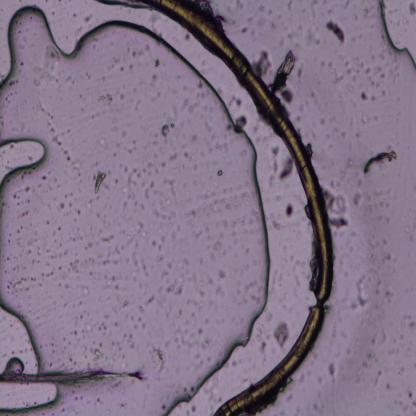Air bubble: (0, 2, 75, 95), (0, 301, 45, 374), (375, 0, 416, 73), (0, 136, 48, 186), (0, 383, 63, 416), (8, 358, 26, 376)
Background material: (362, 149, 402, 177), (274, 49, 294, 90), (321, 187, 349, 214), (326, 21, 346, 45), (255, 326, 271, 356), (41, 44, 58, 72), (353, 271, 367, 305), (253, 48, 270, 75), (149, 344, 166, 370), (275, 323, 292, 349), (93, 165, 108, 193), (122, 172, 136, 200), (192, 78, 210, 98), (3, 277, 27, 292), (25, 245, 43, 265), (198, 198, 221, 213), (162, 177, 177, 199), (278, 158, 293, 180), (58, 192, 76, 209), (66, 256, 82, 275), (267, 158, 277, 188), (331, 216, 352, 230), (208, 142, 231, 154), (106, 53, 122, 70), (49, 126, 63, 145), (205, 391, 224, 404), (92, 348, 107, 364), (331, 68, 344, 86), (162, 119, 175, 137), (197, 336, 212, 351), (235, 117, 250, 132), (178, 334, 193, 349), (269, 267, 277, 295), (226, 94, 242, 108), (204, 188, 224, 199), (327, 362, 337, 384), (270, 212, 282, 230), (351, 187, 363, 205), (172, 282, 186, 297), (145, 181, 156, 199), (70, 160, 81, 178), (246, 279, 260, 293), (289, 25, 303, 39), (106, 273, 120, 287), (138, 219, 148, 238), (122, 295, 135, 309), (344, 56, 354, 74), (252, 204, 261, 223), (282, 90, 296, 102), (127, 140, 139, 154), (113, 240, 124, 255), (98, 93, 113, 104), (137, 260, 146, 278), (92, 391, 104, 404), (328, 178, 340, 191), (271, 142, 280, 158), (283, 204, 295, 216), (368, 236, 380, 248), (381, 250, 391, 264), (375, 371, 384, 386), (407, 0, 416, 15), (192, 228, 203, 240), (145, 295, 158, 305), (296, 371, 306, 384), (209, 125, 217, 141), (130, 250, 138, 266), (384, 289, 392, 304), (82, 13, 94, 23), (359, 112, 369, 124), (96, 324, 106, 336), (127, 334, 136, 347), (349, 296, 358, 309), (100, 235, 114, 243), (132, 202, 144, 211), (312, 0, 318, 18), (311, 401, 319, 414), (364, 4, 372, 17), (165, 284, 175, 294), (328, 5, 338, 15), (81, 284, 90, 295), (63, 149, 71, 161), (214, 238, 221, 251), (285, 394, 295, 403), (114, 378, 123, 388), (84, 256, 95, 264), (144, 165, 152, 176), (361, 90, 368, 102), (382, 328, 388, 342), (42, 271, 54, 278), (251, 295, 261, 303), (5, 92, 13, 102), (229, 219, 237, 229), (163, 198, 171, 208), (150, 238, 158, 248), (406, 389, 414, 399), (168, 152, 178, 160), (395, 398, 405, 406), (134, 101, 141, 112), (193, 350, 201, 359), (224, 202, 233, 210), (216, 169, 225, 177), (329, 156, 335, 168), (355, 367, 363, 376), (188, 106, 197, 114), (117, 92, 126, 100), (108, 338, 116, 347), (28, 275, 37, 283), (157, 252, 162, 266), (9, 79, 19, 86), (207, 276, 214, 286), (398, 366, 405, 376), (86, 323, 93, 333), (0, 203, 6, 214), (294, 276, 300, 287), (153, 75, 159, 86), (63, 245, 69, 256), (182, 318, 190, 326), (363, 66, 371, 74), (224, 124, 232, 132), (368, 352, 376, 360), (160, 269, 168, 277), (380, 237, 388, 245), (197, 326, 204, 335), (309, 89, 316, 98), (340, 130, 347, 139), (20, 210, 29, 217), (192, 404, 198, 414), (0, 114, 5, 126), (159, 212, 165, 222), (88, 238, 94, 248), (287, 0, 293, 10), (183, 150, 190, 158), (241, 26, 248, 34), (76, 232, 84, 239), (374, 81, 382, 88), (319, 116, 326, 124), (248, 15, 255, 23), (316, 377, 323, 385), (231, 360, 238, 368), (182, 99, 189, 107), (403, 226, 410, 234), (223, 219, 228, 230), (278, 272, 283, 283), (134, 238, 139, 249), (345, 346, 351, 355), (155, 58, 161, 67), (153, 130, 159, 139), (384, 199, 390, 208), (349, 158, 354, 168), (47, 112, 54, 119), (99, 138, 106, 145), (384, 383, 391, 390), (191, 210, 197, 218), (60, 405, 66, 413), (408, 322, 416, 328), (324, 134, 330, 142), (119, 64, 125, 72), (160, 160, 166, 168), (103, 258, 111, 264), (376, 279, 382, 287), (370, 253, 376, 261), (186, 32, 192, 40), (352, 13, 358, 21), (267, 10, 273, 18), (190, 309, 196, 317), (51, 252, 57, 260), (68, 355, 74, 363), (220, 270, 226, 278), (119, 402, 128, 407), (18, 60, 24, 67), (137, 77, 143, 84), (152, 140, 159, 146), (190, 134, 197, 140), (95, 211, 101, 218), (113, 177, 119, 184), (216, 88, 223, 94), (362, 216, 368, 223), (381, 88, 387, 95), (296, 259, 302, 266), (128, 63, 134, 70), (315, 38, 321, 45), (2, 165, 12, 169), (242, 149, 247, 157), (177, 224, 182, 232), (132, 48, 137, 56), (372, 336, 377, 344), (402, 315, 410, 320), (86, 70, 91, 78), (296, 114, 301, 122), (298, 65, 301, 78), (198, 290, 204, 296), (27, 155, 33, 161), (249, 218, 255, 224), (232, 238, 238, 244), (199, 279, 205, 285), (42, 174, 48, 180), (340, 172, 346, 178), (289, 255, 294, 262), (178, 309, 183, 316), (240, 318, 245, 325), (206, 357, 211, 364), (25, 185, 30, 192), (271, 22, 276, 29), (155, 167, 160, 174), (194, 164, 199, 171), (354, 58, 359, 65), (158, 245, 162, 253), (114, 320, 118, 328), (59, 240, 63, 248), (369, 97, 377, 101), (148, 160, 152, 168), (246, 246, 251, 252), (251, 36, 256, 42), (46, 121, 52, 126), (80, 329, 85, 335), (173, 337, 179, 342), (328, 144, 334, 149), (72, 13, 78, 18), (370, 80, 375, 86), (6, 256, 12, 261), (46, 248, 52, 253), (58, 264, 63, 270), (50, 348, 56, 353), (35, 184, 42, 188), (78, 91, 82, 98), (168, 261, 172, 268), (76, 209, 80, 216), (261, 6, 265, 13), (92, 173, 96, 180), (188, 387, 195, 391), (162, 403, 166, 410), (74, 328, 78, 335), (387, 217, 391, 224), (412, 400, 416, 407), (2, 255, 6, 262), (182, 163, 186, 170), (376, 289, 380, 296), (186, 261, 191, 266), (370, 54, 375, 59), (355, 132, 360, 137), (46, 219, 51, 224), (68, 74, 72, 80), (154, 153, 158, 159), (400, 334, 404, 340), (138, 316, 142, 322), (79, 314, 83, 320), (120, 355, 126, 359), (200, 257, 204, 263), (79, 394, 83, 400), (365, 362, 369, 368), (113, 151, 116, 158), (74, 396, 78, 401), (162, 238, 166, 243), (73, 218, 78, 222), (223, 251, 228, 255), (84, 246, 88, 251), (72, 237, 76, 242), (328, 62, 333, 66), (164, 139, 168, 144), (115, 285, 119, 290), (34, 238, 39, 242), (50, 342, 54, 347), (380, 74, 385, 78), (156, 92, 161, 96), (132, 168, 136, 173), (10, 144, 14, 149), (89, 270, 92, 276), (99, 342, 102, 348), (411, 236, 414, 242), (142, 323, 145, 329), (72, 388, 75, 394), (6, 159, 10, 163), (67, 128, 71, 132), (7, 239, 11, 243), (26, 287, 30, 291), (89, 199, 93, 203), (50, 412, 54, 416), (16, 229, 20, 233), (12, 266, 16, 270), (33, 402, 37, 406), (29, 348, 33, 352), (96, 196, 100, 200), (206, 319, 209, 324), (95, 161, 98, 166), (27, 199, 30, 204), (13, 194, 16, 199), (138, 173, 141, 178), (58, 226, 61, 231), (50, 363, 53, 368), (58, 282, 61, 287), (380, 216, 383, 221), (16, 203, 20, 206), (85, 354, 88, 358), (20, 225, 23, 229), (115, 260, 118, 264), (86, 367, 90, 370), (9, 233, 12, 237), (24, 348, 28, 351), (54, 177, 56, 182), (80, 300, 82, 305), (20, 349, 22, 354), (91, 115, 94, 118), (74, 361, 76, 365), (13, 350, 15, 354), (49, 187, 51, 190), (5, 270, 7, 273), (127, 168, 128, 173)
Cellulose filter fibre: (0, 370, 144, 388)
Microfibre: (143, 0, 332, 416)
